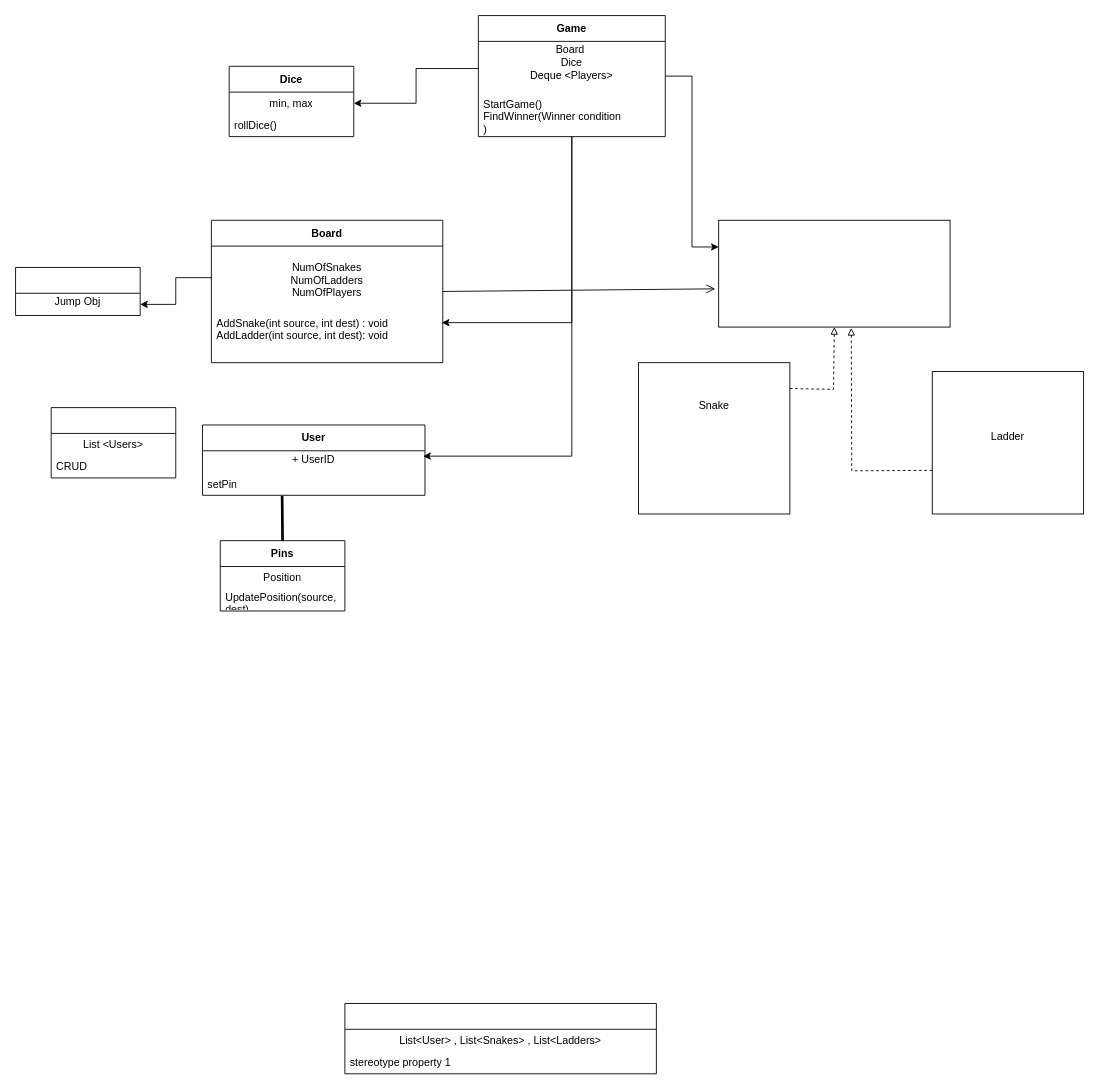
Some shapes in this 1099 by 1089 pixel diagram are drawn without their labels. The shapes that lost their labels are listed below. From the top down, each one's box as (x1, y1, x2, y2) in pixels, then its label:
(15, 267, 140, 316): Cells
(718, 219, 950, 327): Jump
(50, 407, 176, 478): LeaderBoard
(344, 1003, 656, 1074): Game Scheduler
